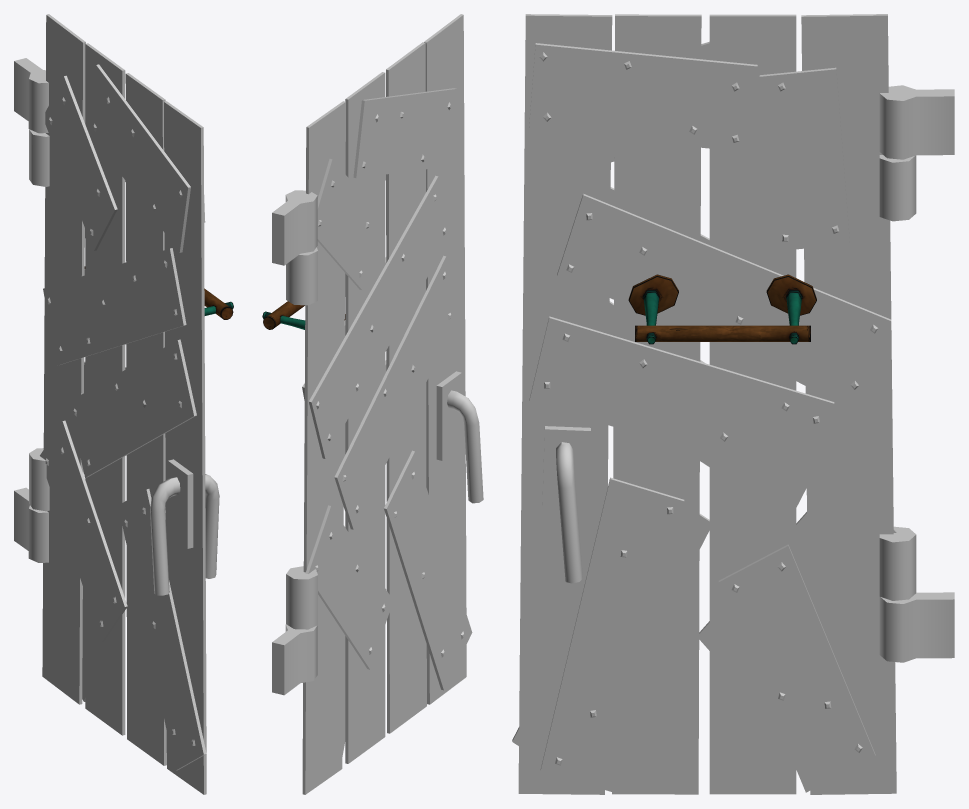
File: Deur+haak (2).fbx
The picture shows the model from 3 angles, left to right: view 1: azimuth 30°, elevation 25°; view 2: azimuth 150°, elevation 25°; view 3: azimuth 270°, elevation 25°; orthographic projection. The views are drawn at different scales.
Visible parts, largest first — view 1: Deur.002, Deur binnen, Stand.002; view 2: Deur.002, Deur binnen, Stand.002; view 3: Deur.002, Deur binnen, Stand.002.
Boxes of the visible parts, <box> form: Deur.002: <box>29,14,219,794</box>; Deur binnen: <box>14,58,48,562</box>; Stand.002: <box>84,266,233,319</box>; Deur.002: <box>286,14,483,794</box>; Deur binnen: <box>272,190,317,695</box>; Stand.002: <box>262,301,345,329</box>; Deur.002: <box>512,14,916,794</box>; Deur binnen: <box>879,85,954,662</box>; Stand.002: <box>628,274,816,344</box>.
Size of the model in its own units: 41.15 by 224 by 115.
